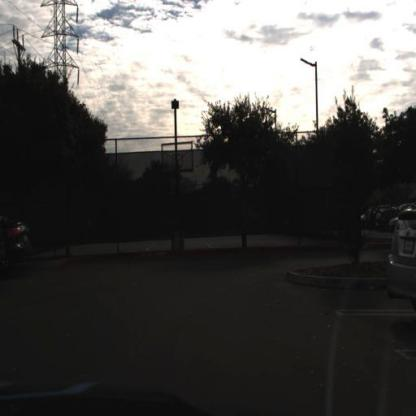car: (387, 205, 416, 319), (1, 208, 35, 283)
